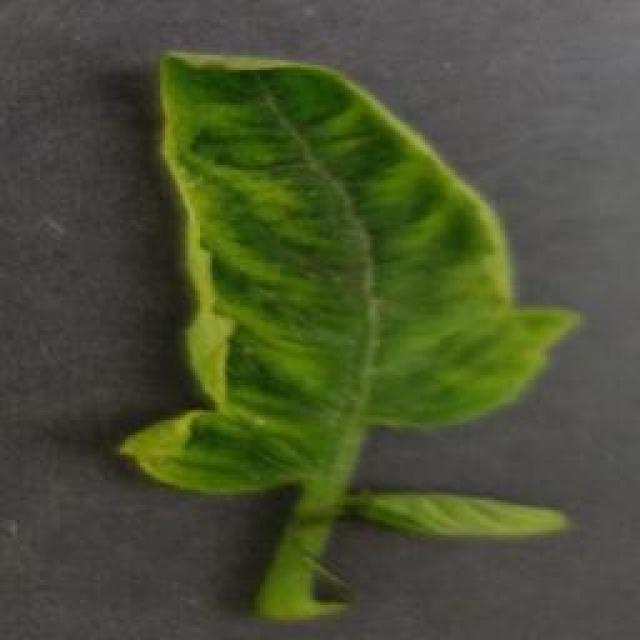Tomato yellow virus leaf: (120, 50, 584, 497), (353, 485, 570, 540)
